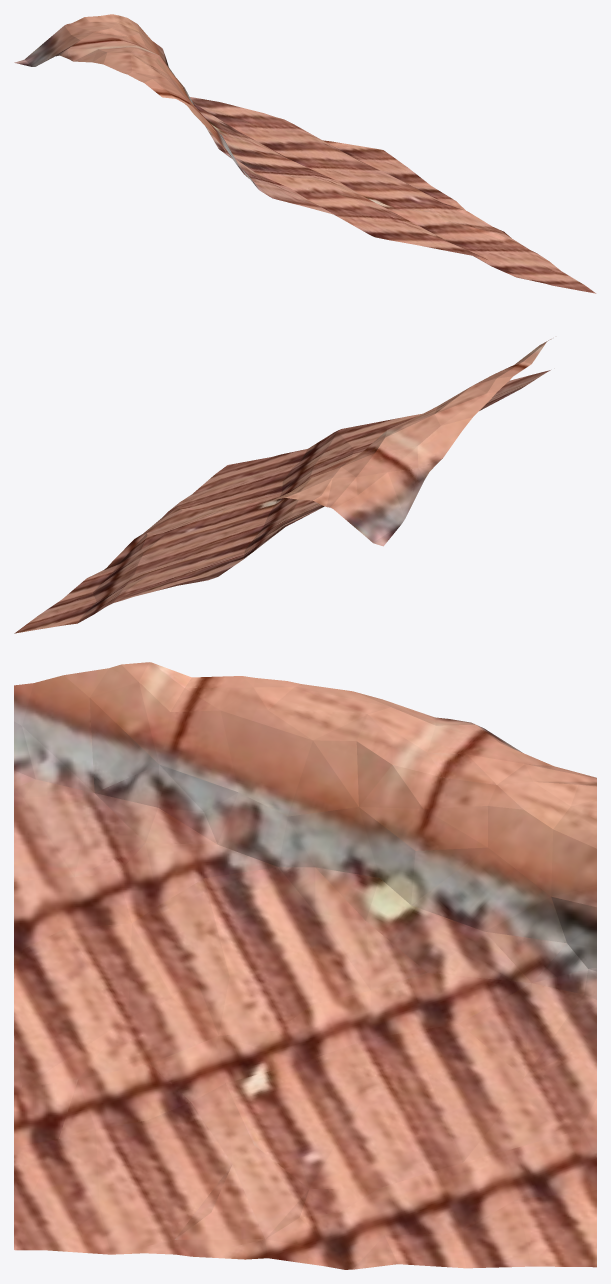
The picture shows the model from 3 angles, top to bottom: view 1: azimuth 30°, elevation 25°; view 2: azimuth 150°, elevation 25°; view 3: azimuth 270°, elevation 25°; orthographic projection. The views are drawn at different scales.
Size of the model in its own units: 0.8374 by 0.5726 by 0.8374.
3 materials, 3 textured.
